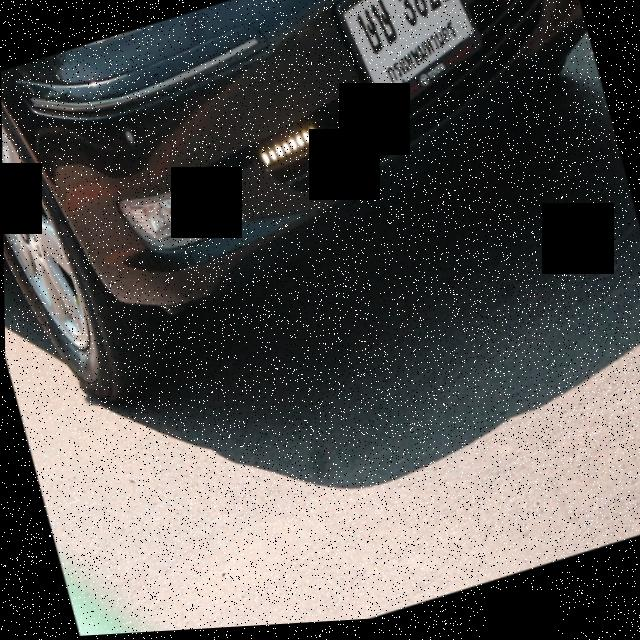text: (344, 0, 473, 106)
